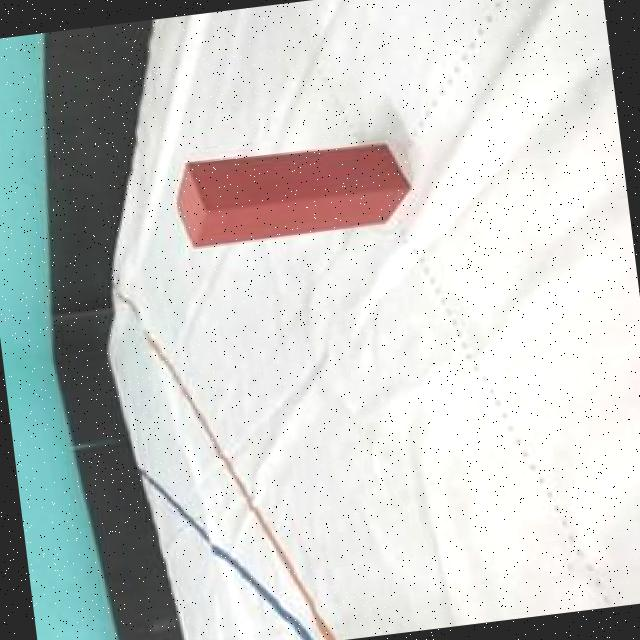redbox: (167, 130, 416, 252)
